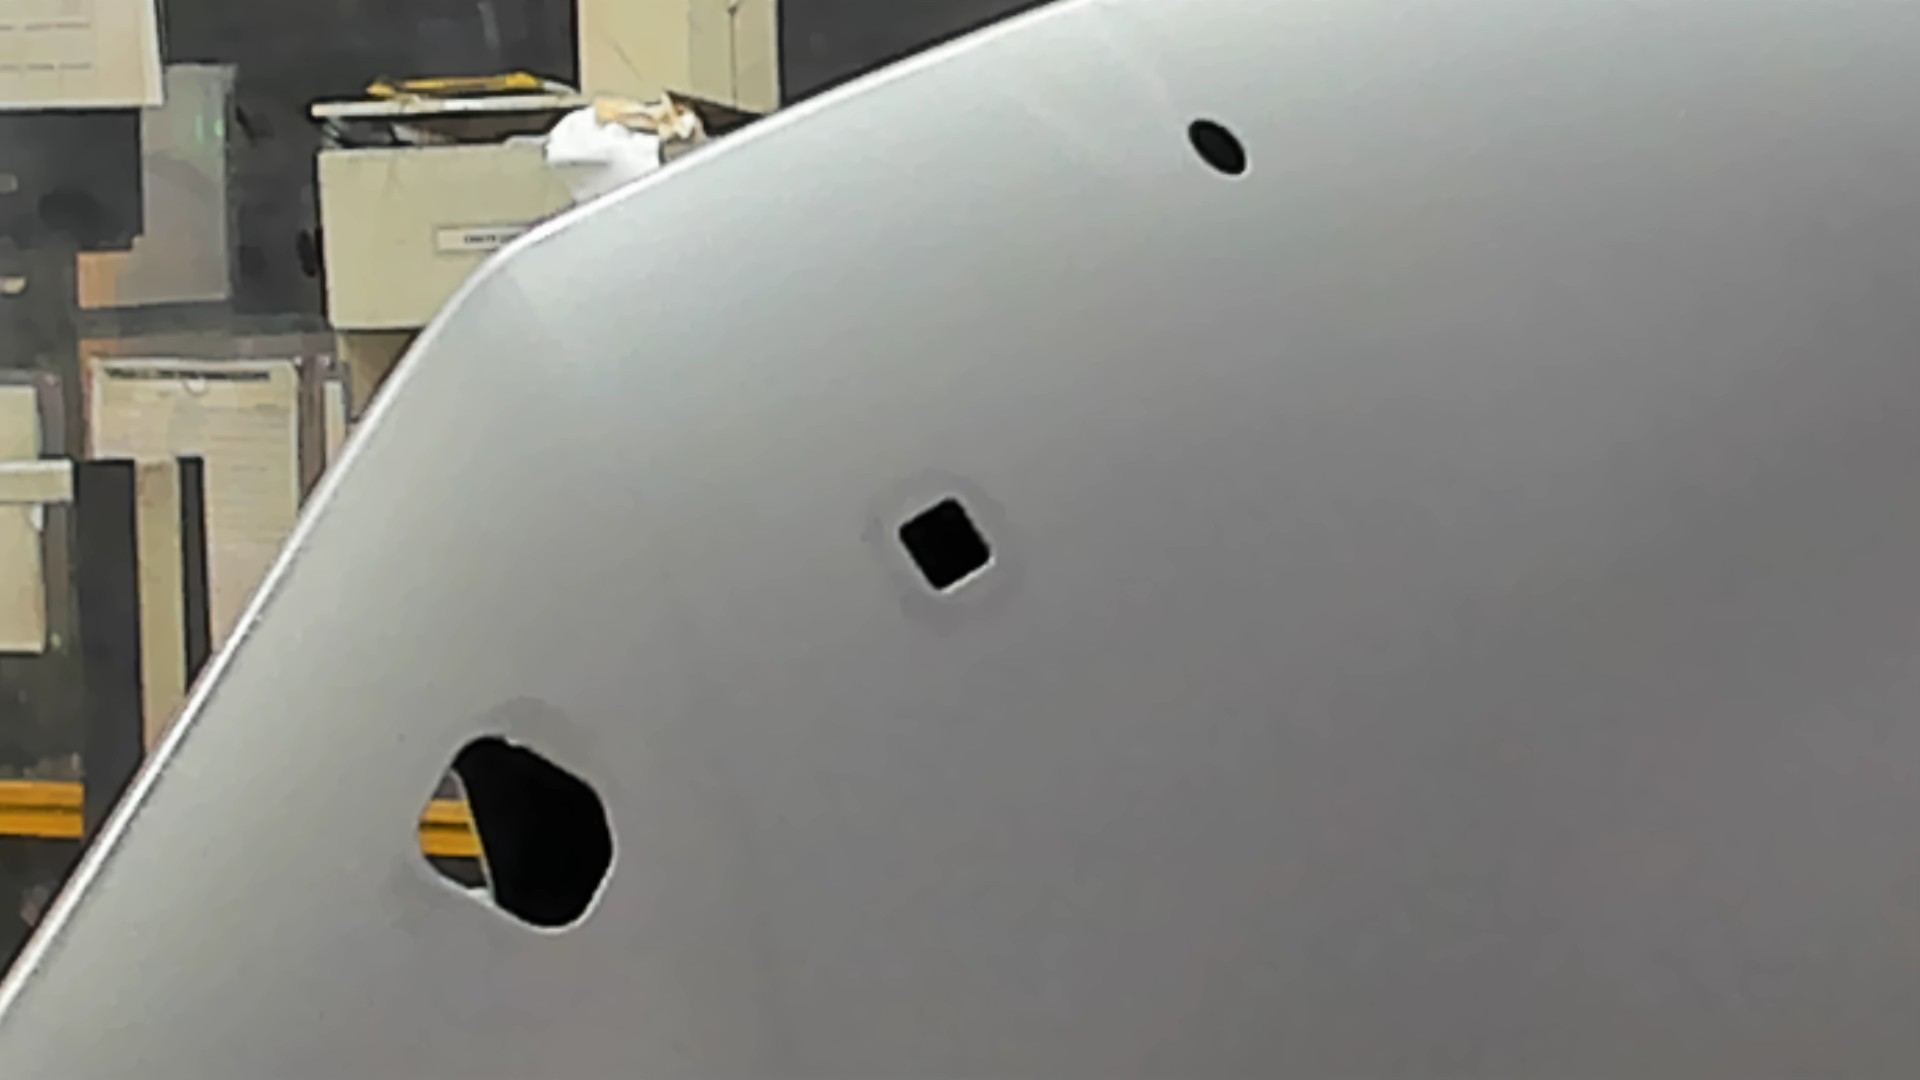Agujero: (893, 496, 994, 593), (1185, 117, 1251, 177)
Agujerote: (413, 735, 617, 934)
